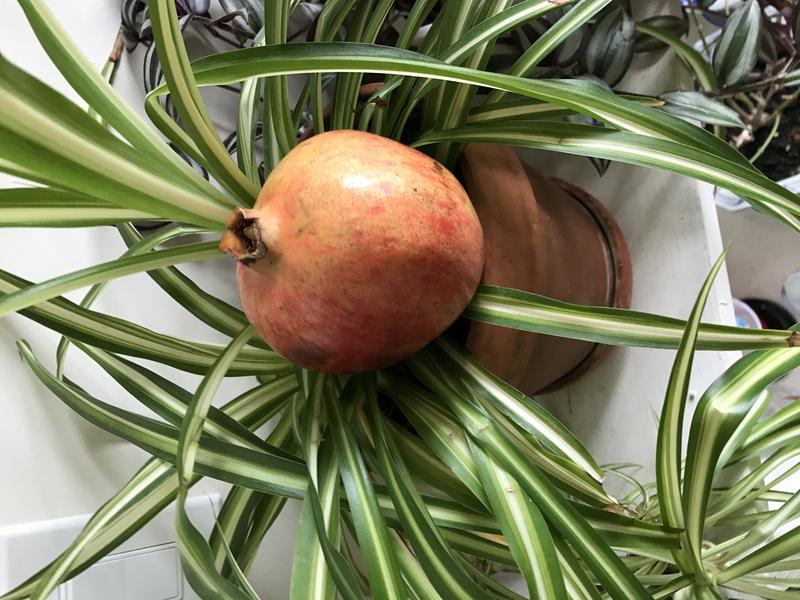pomegranate: (205, 115, 504, 386)
